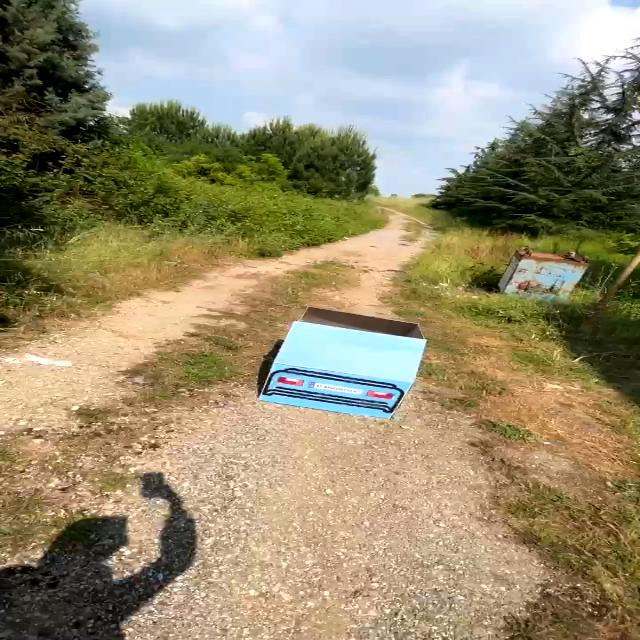blue_car: (236, 281, 453, 438)
